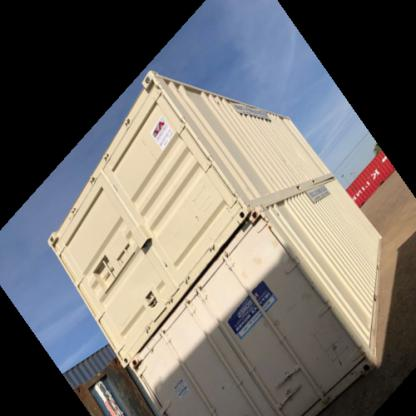Damage: (304, 289, 364, 370), (265, 330, 318, 399)
